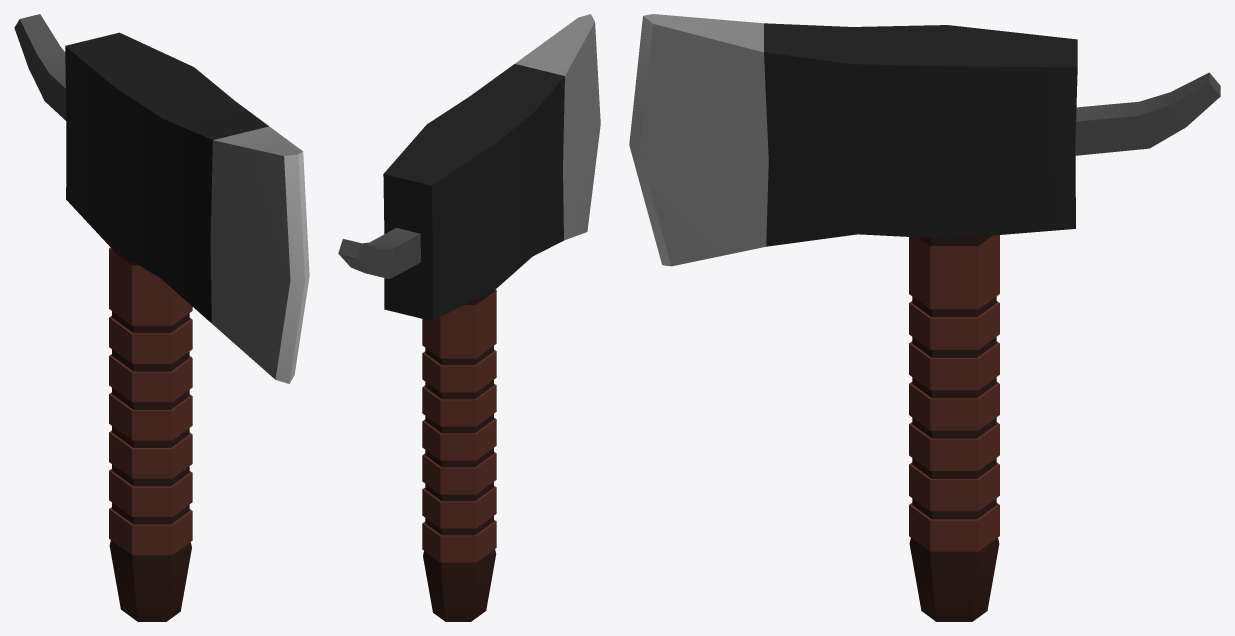
The model's file is Axe31.glb.
The picture shows the model from 3 angles, left to right: view 1: azimuth 30°, elevation 25°; view 2: azimuth 150°, elevation 25°; view 3: azimuth 270°, elevation 25°; orthographic projection. The views are drawn at different scales.
Parts seen in each view (by area): view 1: weapon_generator; view 2: weapon_generator; view 3: weapon_generator.
Boxes of the visible parts, left/top/right/bottom form: weapon_generator: left=14, top=14, right=309, bottom=621; weapon_generator: left=338, top=14, right=600, bottom=621; weapon_generator: left=629, top=14, right=1220, bottom=621.
Size of the model in its own units: 0.039 by 0.2618 by 0.2357.
